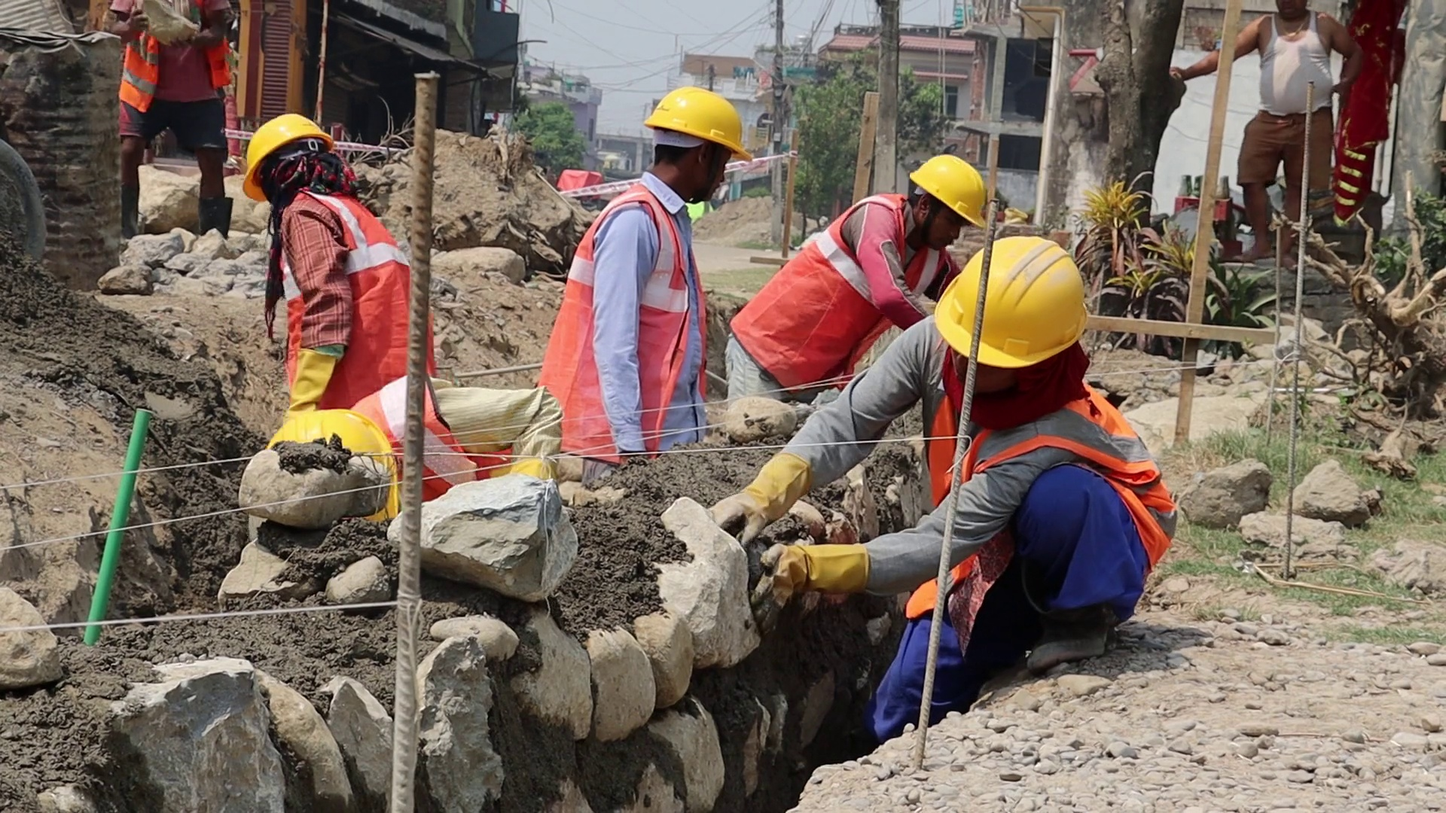helmet: (932, 235, 1090, 369), (265, 408, 401, 525), (645, 86, 755, 163), (241, 114, 335, 203), (908, 154, 989, 228)
person: (701, 234, 1178, 746), (535, 86, 758, 480), (242, 114, 453, 467), (718, 154, 990, 408), (1167, 0, 1365, 267), (267, 378, 572, 524), (96, 1, 239, 242)
